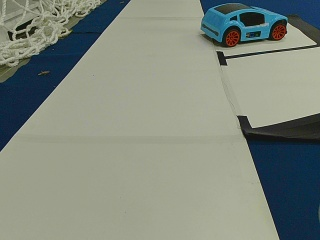car: (200, 6, 288, 45)
